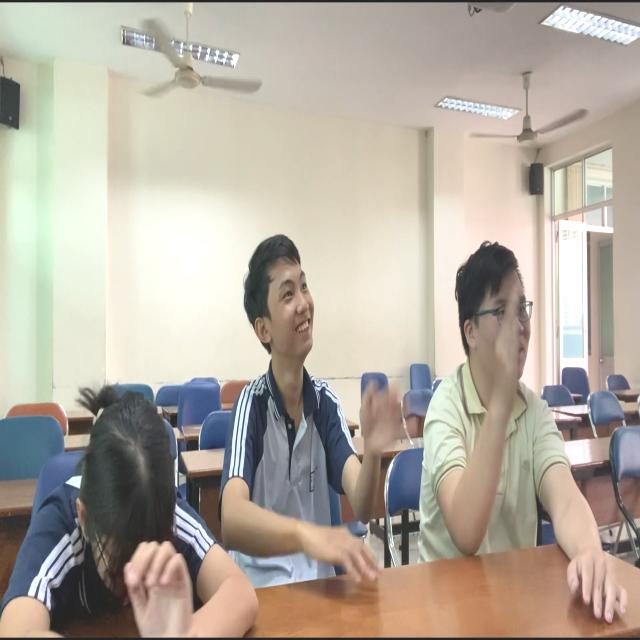raise_hand: (419, 217, 629, 640)
